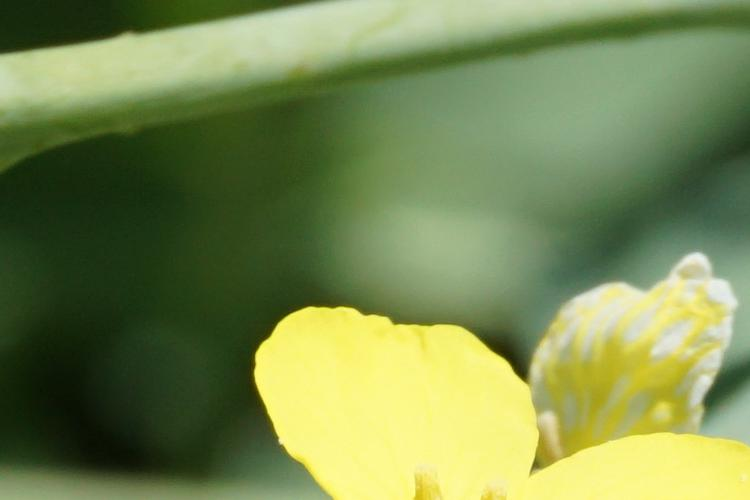yellow: (231, 292, 750, 495)
